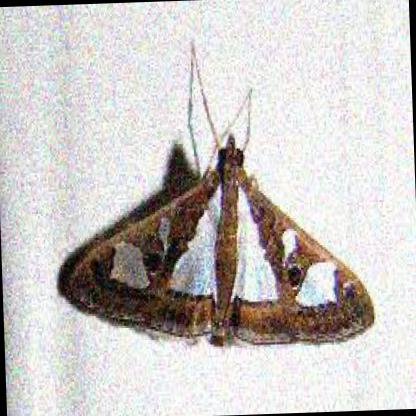Leaf Webber: (69, 136, 377, 354)
